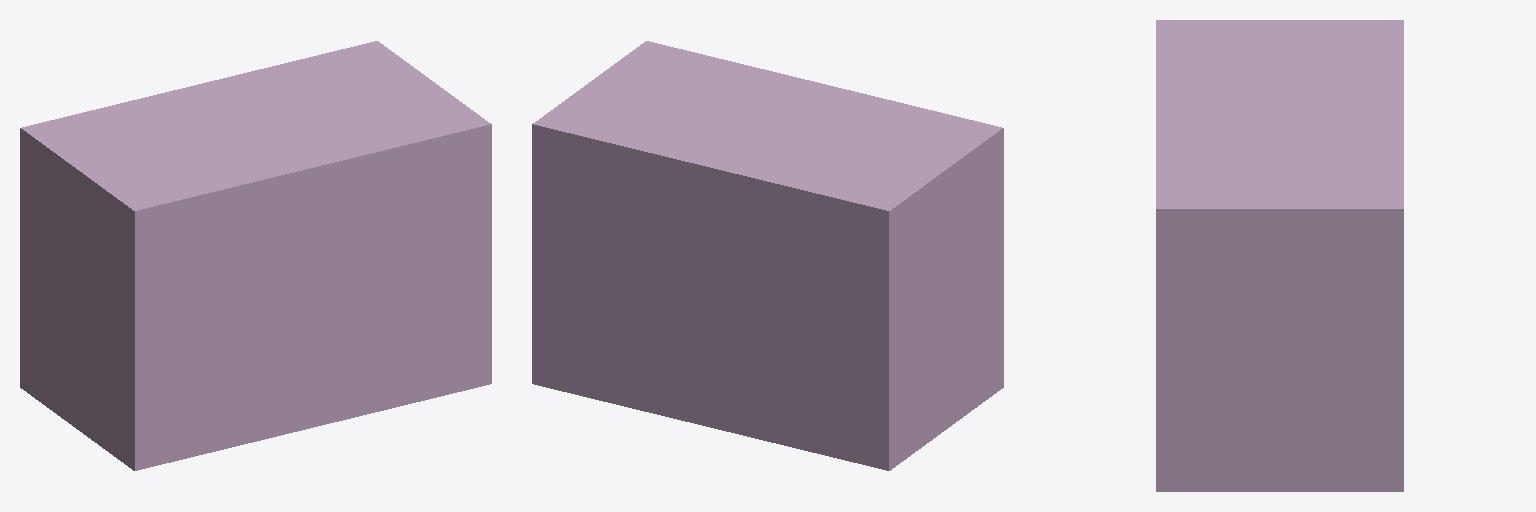
robot.urdf — box.urdf:
<?xml version="1.0" ?>
<robot name="box.urdf">
  <link name="baseLink">
    <contact>
      <lateral_friction value="1.0"/>
      <rolling_friction value="0.0001"/>
      <inertia_scaling value="3.0"/>
    </contact>
    <inertial>
      <origin rpy="0 0 0" xyz="0 0 0"/>
       <mass value="0.1"/>
       <inertia ixx="1" ixy="0" ixz="0" iyy="1" iyz="0" izz="1"/>
    </inertial>
    <visual>
      <origin rpy="0 0 0" xyz="0 0 0"/>
      <geometry>
        <!-- <box size="0.365 0.20199999999999999 0.254"/> -->
        <mesh filename="box/box.obj" scale="0.365 0.20199999999999999 0.254"/>
      </geometry>
      <material name="white">
        <color rgba="0.8 0.7 0.8 1"/>
      </material>
    </visual>
    <collision>
      <origin rpy="0 0 0" xyz="0 0 0"/>
      <geometry>
        <mesh filename="box/box.obj" scale="0.365 0.20199999999999999 0.254"/>
	 	    <!-- <box size="0.365 0.20199999999999999 0.254"/> -->
      </geometry>
    </collision>
  </link>
</robot>

--- Render facts (derived) ---
The picture shows the robot from 3 angles, left to right: view 1: azimuth 30°, elevation 25°; view 2: azimuth 150°, elevation 25°; view 3: azimuth 270°, elevation 25°; orthographic projection.
Model box.urdf with 1 links and 0 joints (none), rooted at baseLink, posed all joints at 0.
Visible links, largest first — view 1: baseLink; view 2: baseLink; view 3: baseLink.
Boxes of the visible links, x1=… form: baseLink: x1=20, y1=41, x2=491, y2=470; baseLink: x1=532, y1=41, x2=1003, y2=470; baseLink: x1=1156, y1=20, x2=1403, y2=491.
Size in the robot's own frame: 0.365 by 0.202 by 0.254 metres.
Meshes: 1 distinct files referenced, 1 mesh visuals loaded (1 OBJ).
